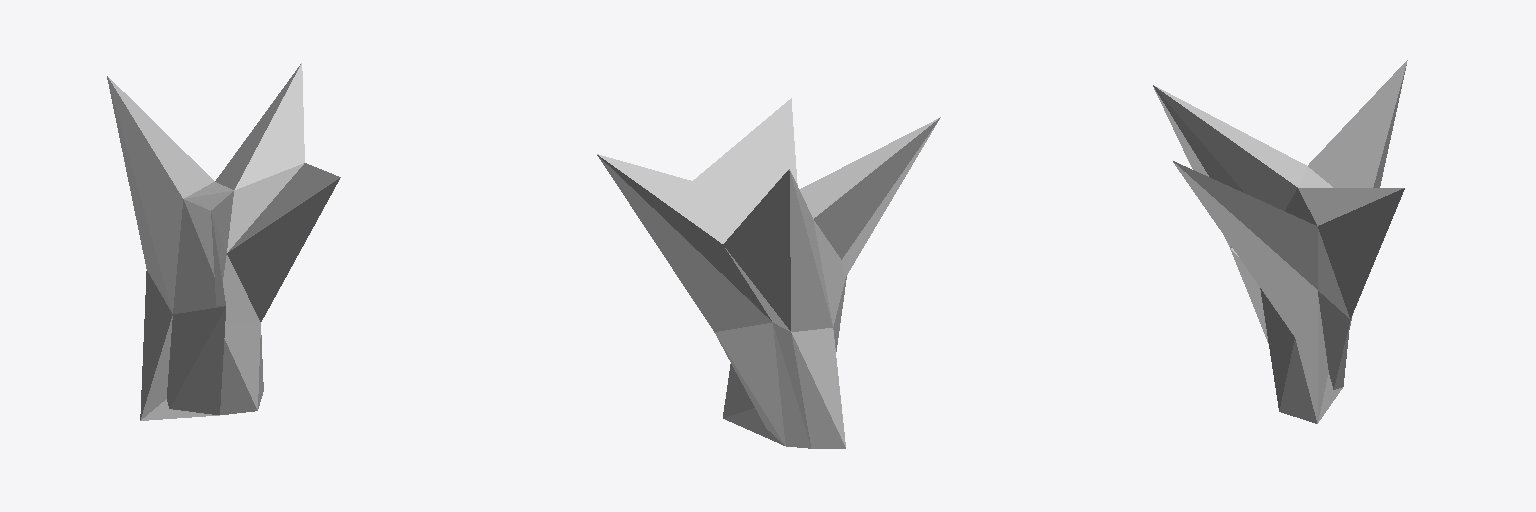
Rendered from gem.obj.
3 renders of one model, left to right at view 1: azimuth 30°, elevation 25°; view 2: azimuth 150°, elevation 25°; view 3: azimuth 270°, elevation 25°, orthographic.
Visible parts, largest first — view 1: Cube; view 2: Cube; view 3: Cube.
Boxes of the visible parts, <box> form: Cube: <box>107,63,340,420</box>; Cube: <box>597,98,940,448</box>; Cube: <box>1153,60,1407,423</box>.
Bounding box in the file's own units: 2.86 × 3.9 × 2.91.